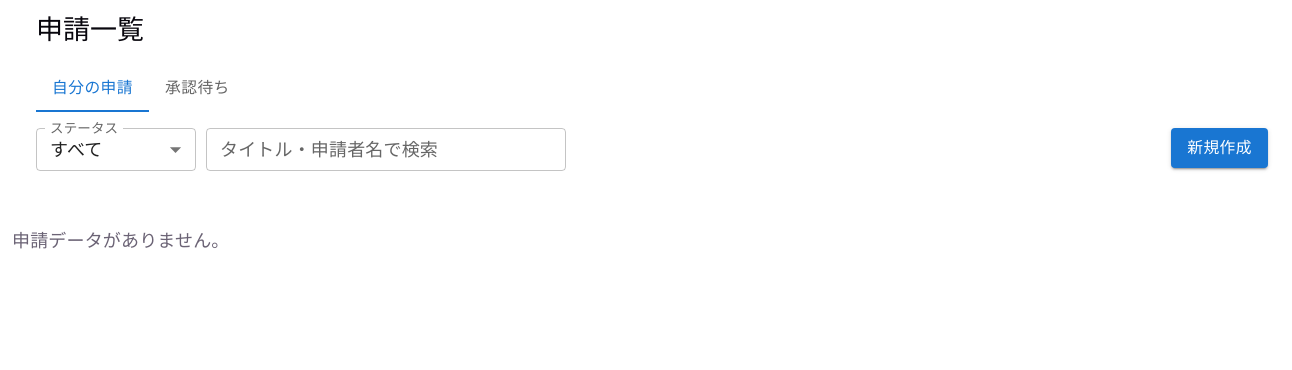
Test: ApplicationListPage › Approverの場合、「承認待ち」タブを押すと getMyApprovalRequests が呼ばれること
Click the tab "承認待ち" at coordinates (197, 88), box [149,64,246,112]
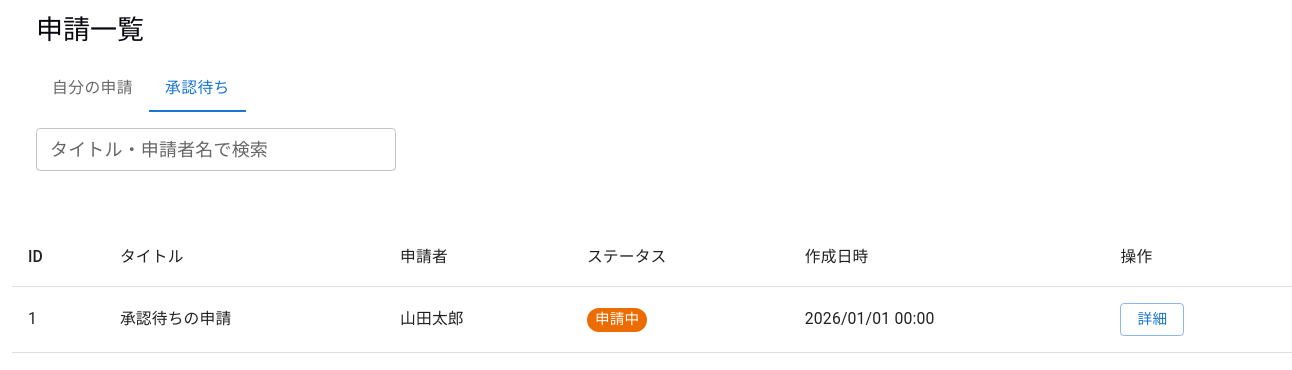
expect the text "承認待ちの申請" is shown: met, box [104,286,384,353]
expect the link "新規作成" is gone: met
